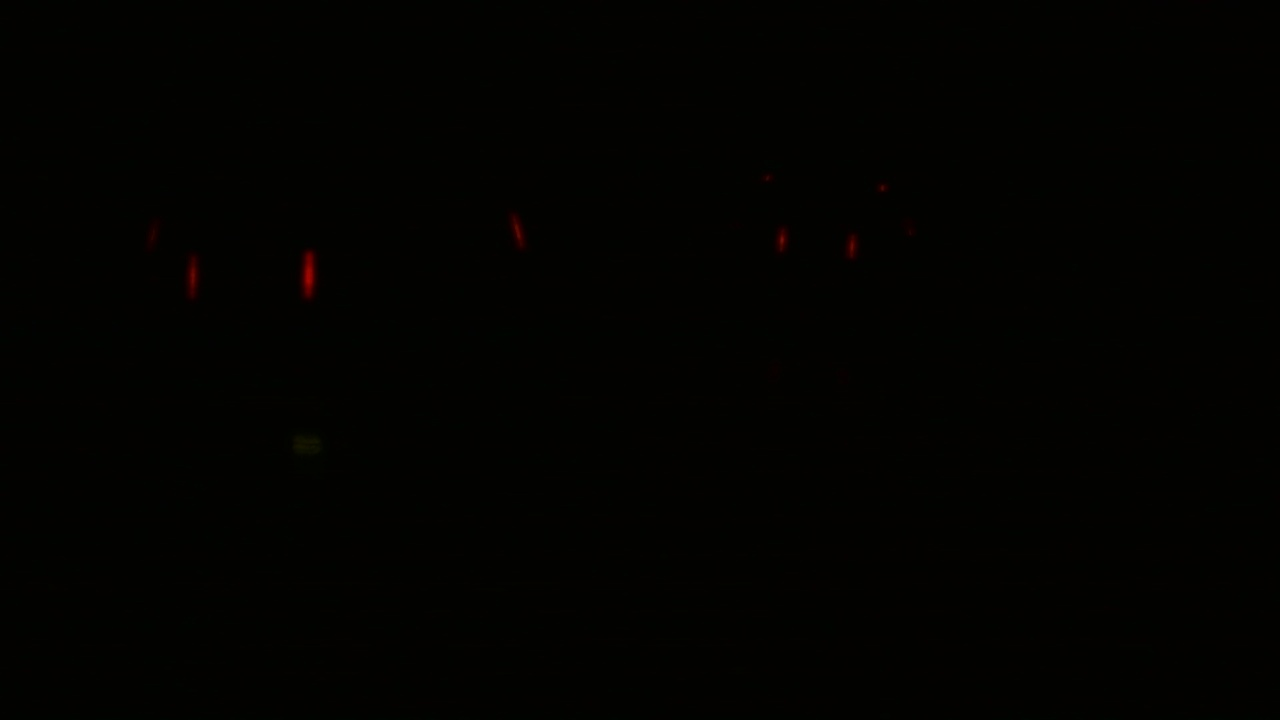pair1: (187, 250, 316, 297), (774, 223, 861, 259)
